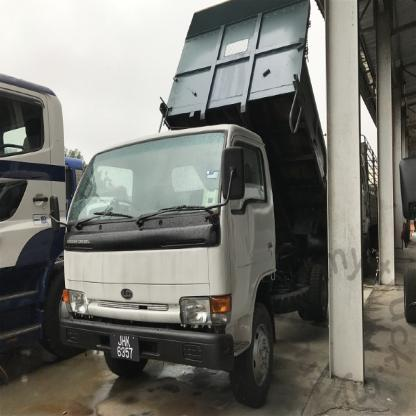dump_truck: (43, 5, 345, 412)
